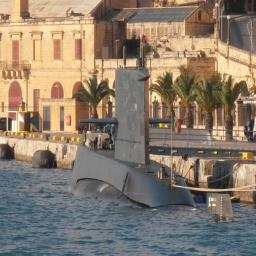submarine: (73, 30, 236, 222)
